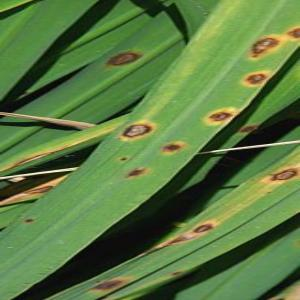Brown_Spot: (243, 24, 283, 68), (237, 60, 277, 95), (98, 45, 149, 72), (256, 159, 300, 190), (198, 101, 244, 130), (114, 118, 161, 146), (84, 272, 135, 296), (153, 136, 193, 160), (282, 13, 300, 52), (187, 219, 219, 239), (123, 162, 150, 184), (20, 215, 39, 227), (168, 268, 186, 279), (115, 152, 131, 164)
